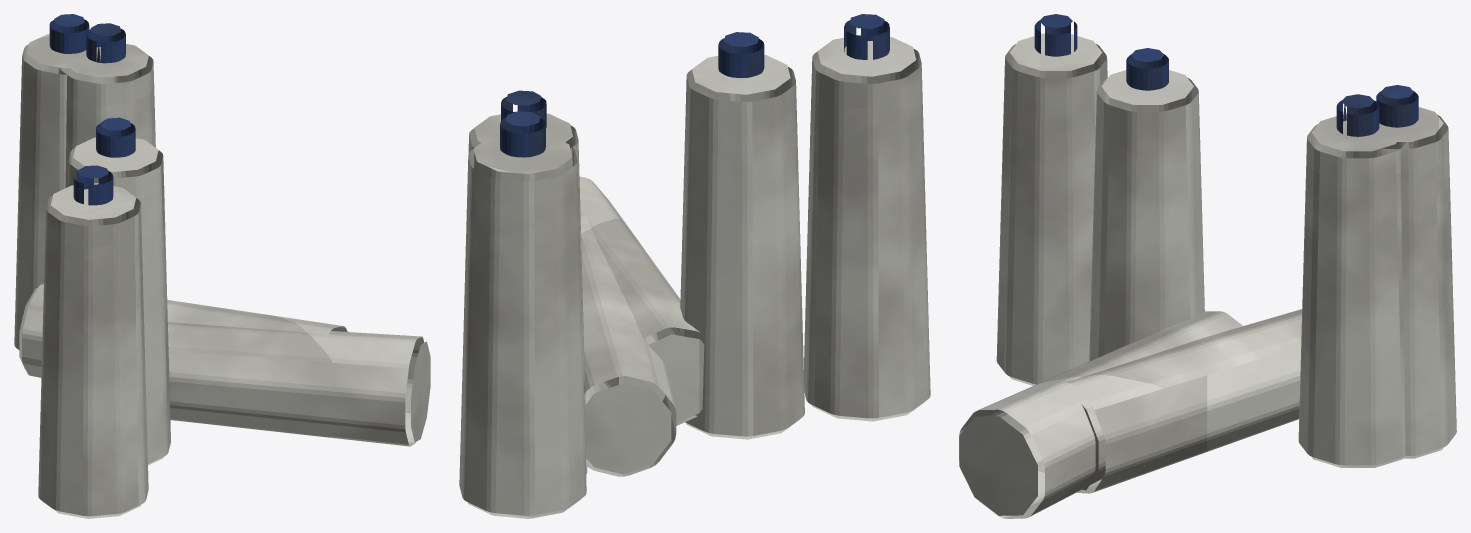
File: D07_plastic_bottles_v3.glb
3 views of the same model, side by side, from view 1: azimuth 30°, elevation 25°; view 2: azimuth 150°, elevation 25°; view 3: azimuth 270°, elevation 25° (orthographic). The views are drawn at different scales.
Parts seen in each view (by area): view 1: D07_plastic_bottles_v3; view 2: D07_plastic_bottles_v3; view 3: D07_plastic_bottles_v3.
Boxes of the visible parts, bbox=[...] form: D07_plastic_bottles_v3: bbox=[14, 14, 430, 518]; D07_plastic_bottles_v3: bbox=[459, 14, 930, 518]; D07_plastic_bottles_v3: bbox=[959, 14, 1456, 518].
Size of the model in its own units: 0.2761 by 0.2285 by 0.2992.
Materials: 2 (2 with a texture image).
